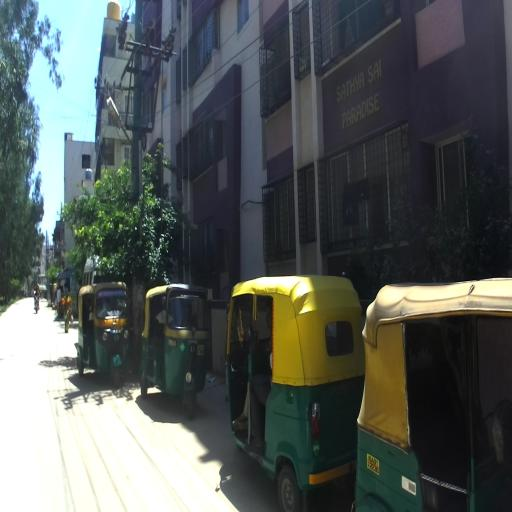street_light_0: (106, 97, 139, 175)
